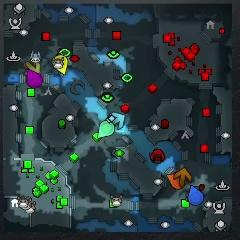p1: (188, 185, 204, 206)
p2: (98, 120, 115, 138)
p3: (27, 69, 42, 89)
p4: (53, 54, 68, 74)
p5: (166, 174, 182, 190)
x1: (24, 59, 37, 75)
x2: (25, 61, 40, 74)
x3: (111, 111, 125, 130)
x5: (174, 167, 192, 186)
